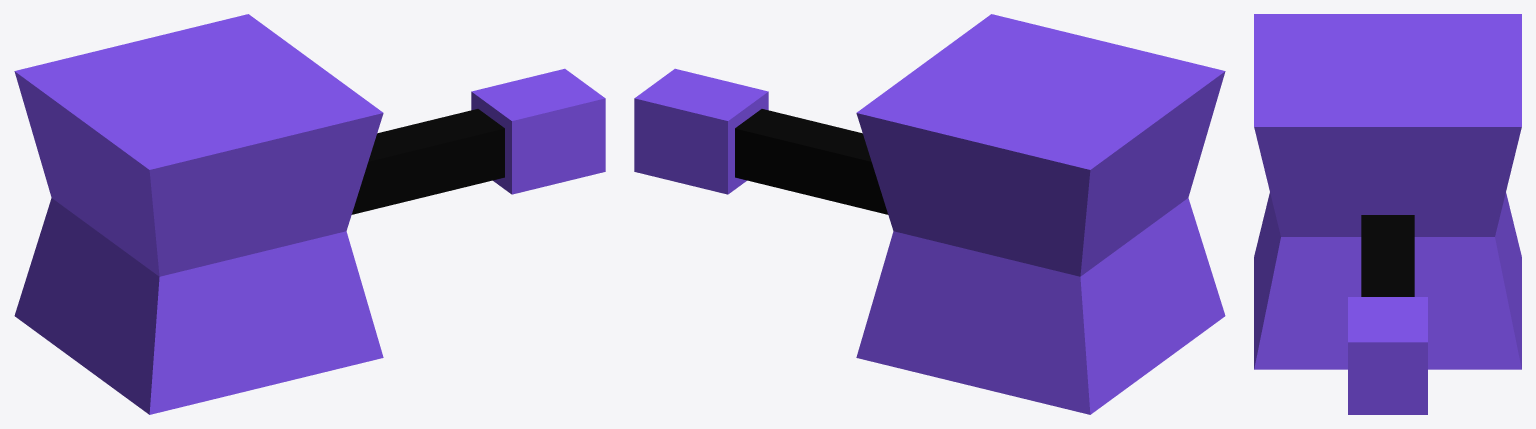
The model's file is turretFirst.fbx.
The picture shows the model from 3 angles, left to right: view 1: azimuth 30°, elevation 25°; view 2: azimuth 150°, elevation 25°; view 3: azimuth 270°, elevation 25°; orthographic projection.
Parts seen in each view (by area): view 1: Cube, Cube.002, Cube.001; view 2: Cube, Cube.002, Cube.001; view 3: Cube, Cube.002, Cube.001.
Part boxes in pixels (x1=…): Cube: x1=14, y1=14, x2=383, y2=414; Cube.002: x1=471, y1=68, x2=605, y2=194; Cube.001: x1=351, y1=109, x2=504, y2=214; Cube: x1=856, y1=14, x2=1225, y2=414; Cube.002: x1=634, y1=68, x2=768, y2=194; Cube.001: x1=735, y1=109, x2=888, y2=214; Cube: x1=1254, y1=14, x2=1521, y2=369; Cube.002: x1=1348, y1=297, x2=1427, y2=414; Cube.001: x1=1361, y1=215, x2=1414, y2=296.
Size of the model in its own units: 430 by 200 by 200.
